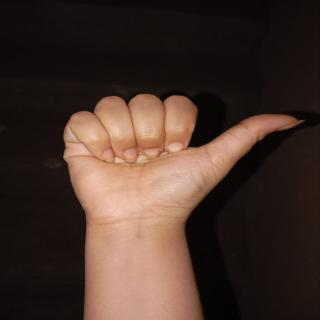DAD: (45, 88, 320, 232)
